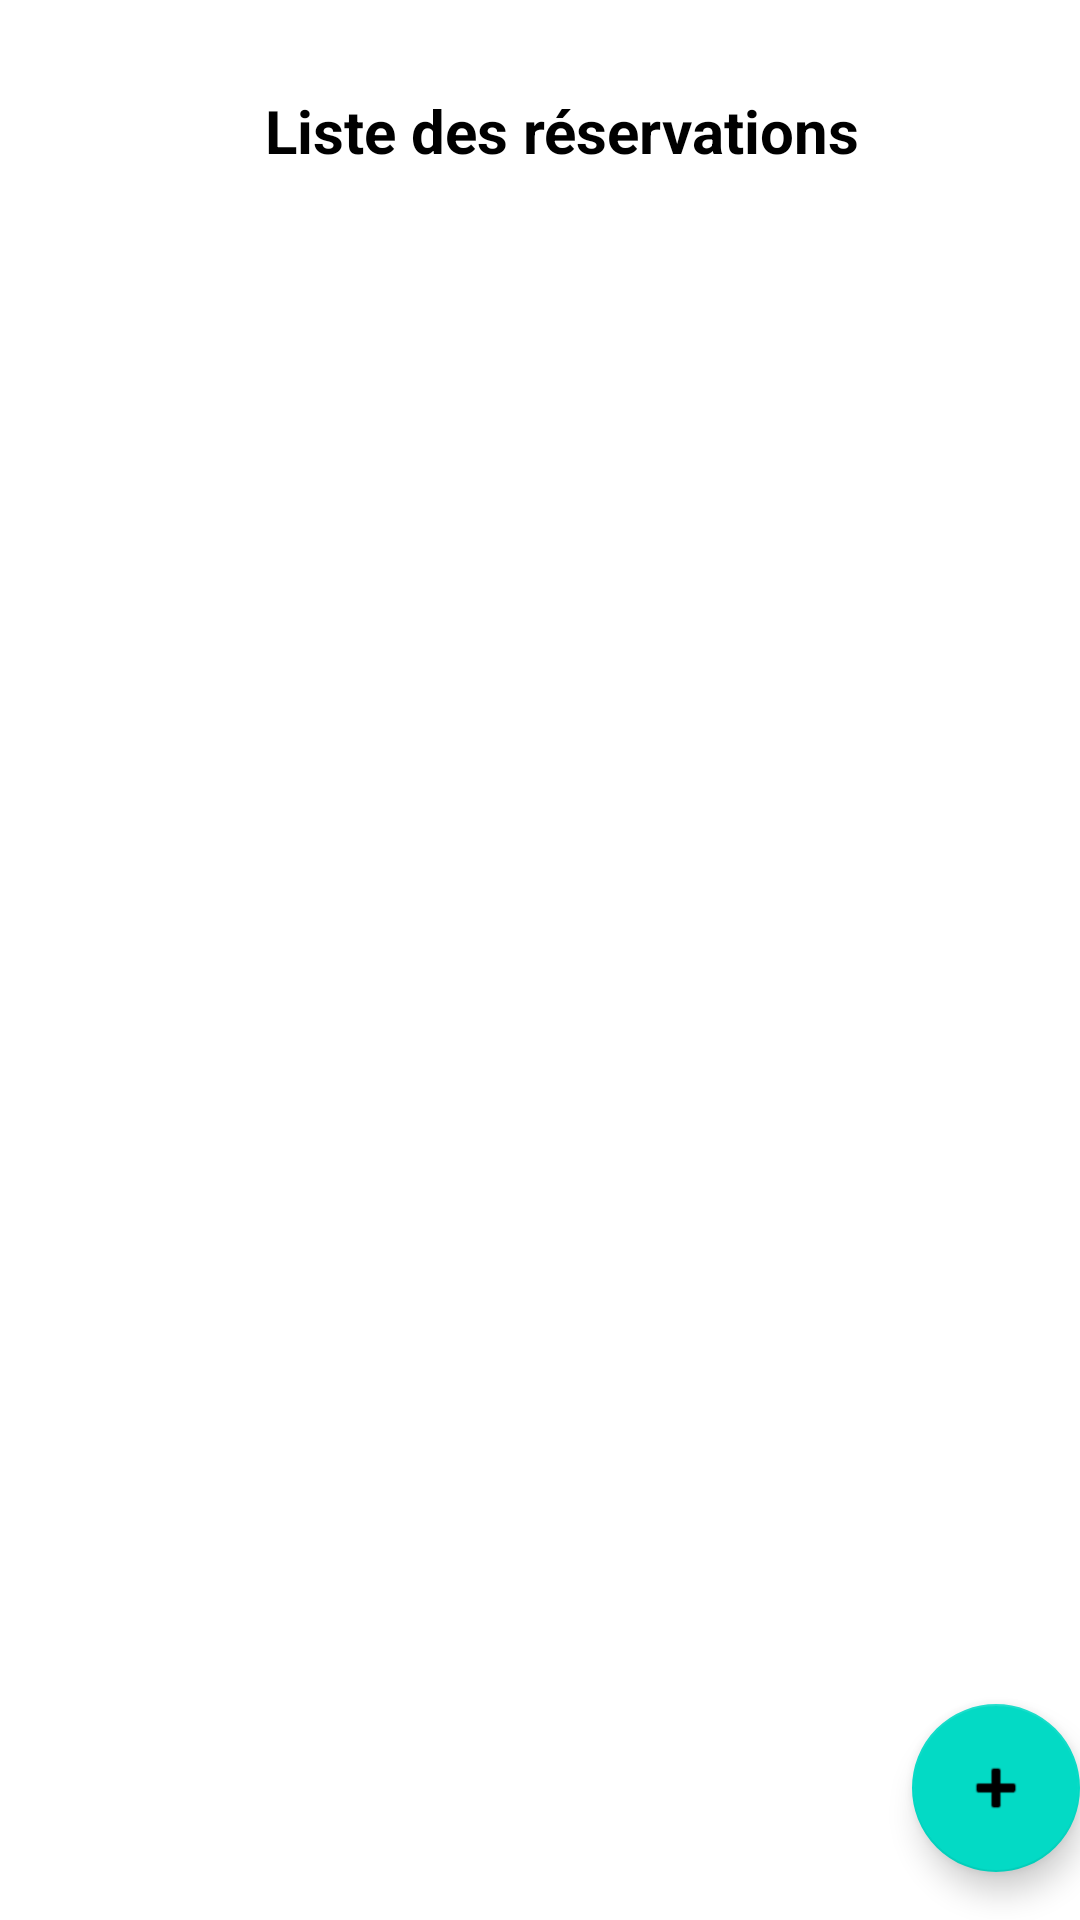

Named icons in this screenshot (1080*1920) and their bounding boxes, [x1,y1,x2,y2]:
bouton flottant: [912,1704,1080,1872]
